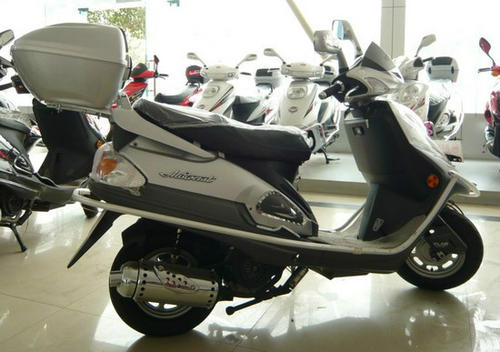motor: (10, 23, 485, 319)
